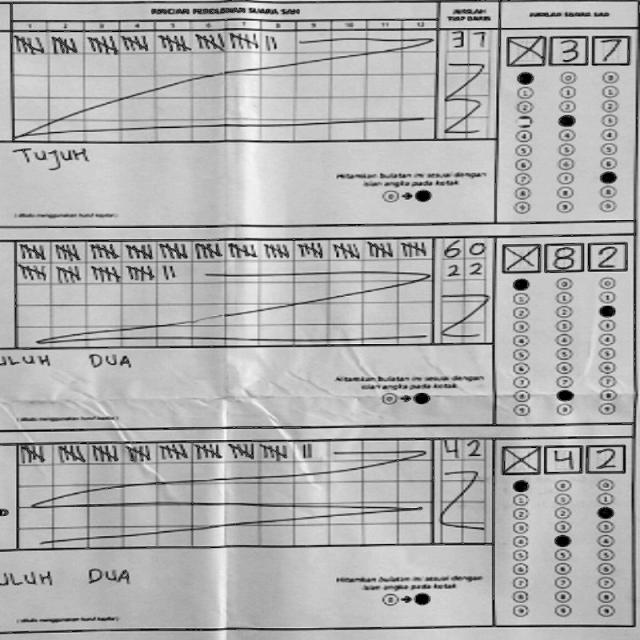Suara: (498, 438, 626, 476), (498, 238, 629, 272), (502, 32, 630, 66)
